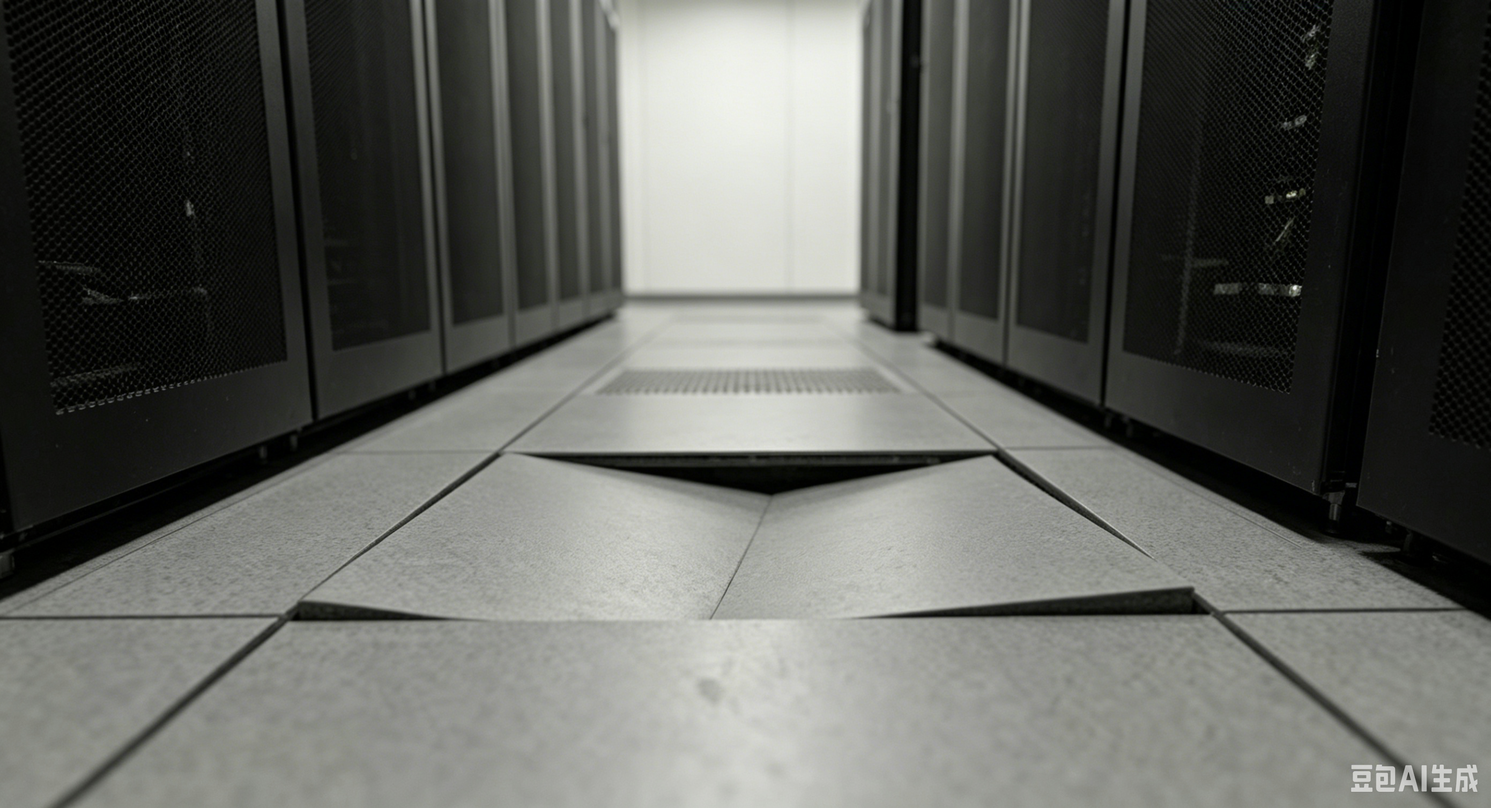floor_defect: (275, 442, 1221, 641)
